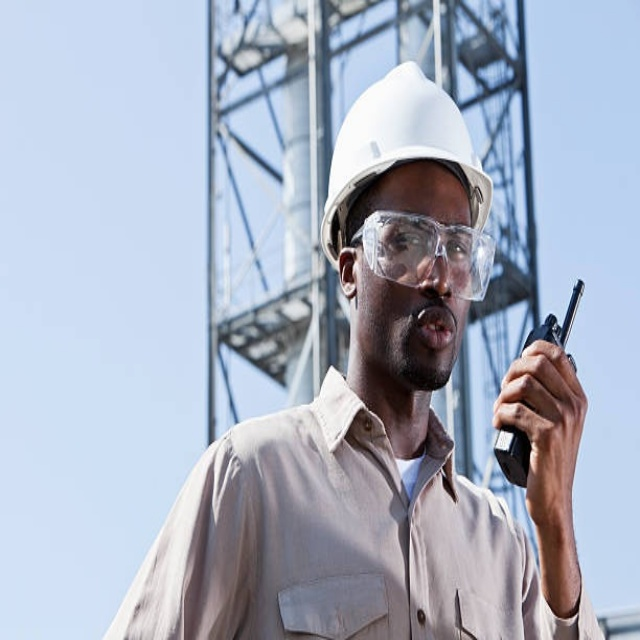Gafas: (349, 210, 496, 300)
Sin_guantes: (491, 334, 588, 521)
Sin_mascara: (399, 300, 466, 373)
